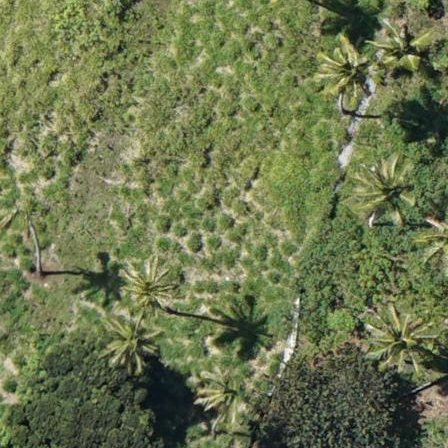palm_tree: (348, 151, 421, 229), (362, 301, 432, 376), (309, 32, 374, 101), (97, 314, 158, 378), (119, 256, 178, 319), (373, 17, 435, 75), (197, 360, 254, 420)
